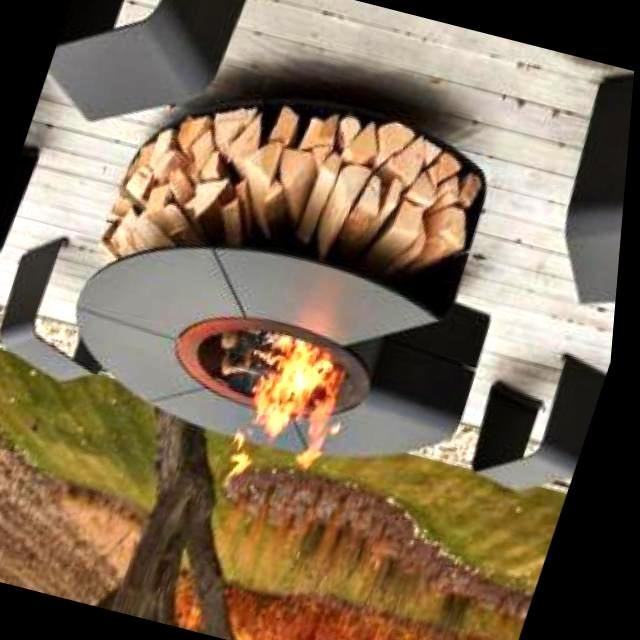fire: (218, 333, 370, 499)
